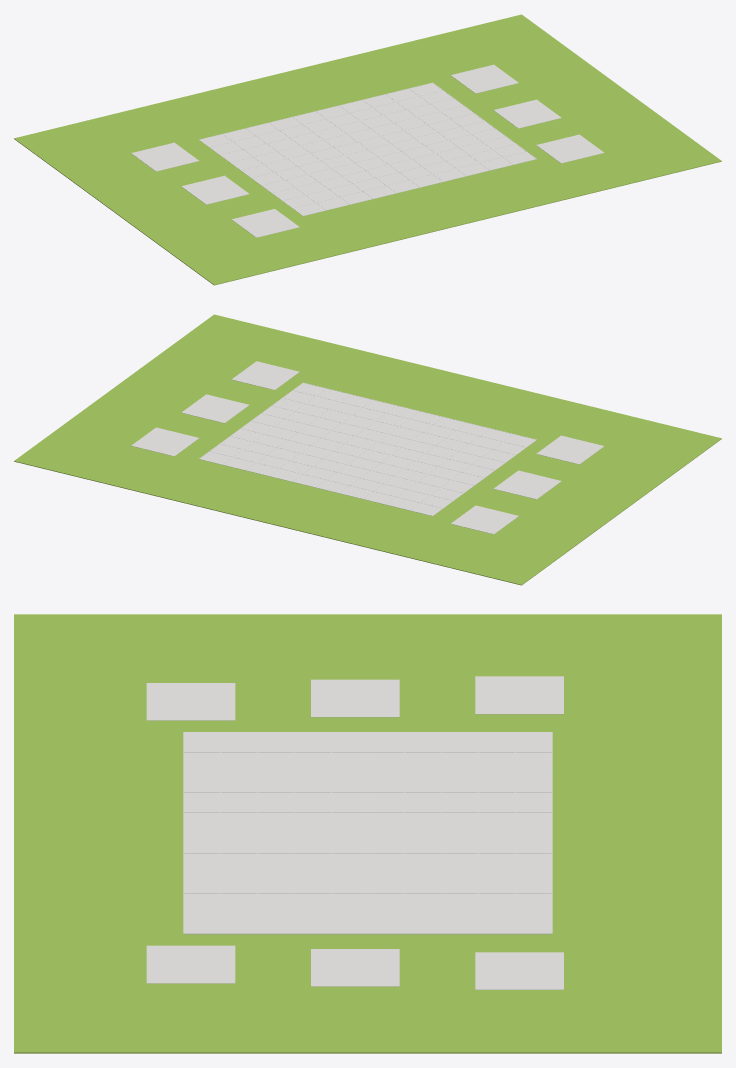
The model's file is ground-court.glb.
3 renders of one model, top to bottom at view 1: azimuth 30°, elevation 25°; view 2: azimuth 150°, elevation 25°; view 3: azimuth 270°, elevation 25°, orthographic. The views are drawn at different scales.
Parts seen in each view (by area): view 1: ground-court; view 2: ground-court; view 3: ground-court.
Boxes of the visible parts, x1,y1,x2,y2 form: ground-court: (14, 14, 721, 285); ground-court: (14, 314, 721, 585); ground-court: (14, 614, 721, 1053).
Size of the model in its own units: 82 by 0.155 by 56.
